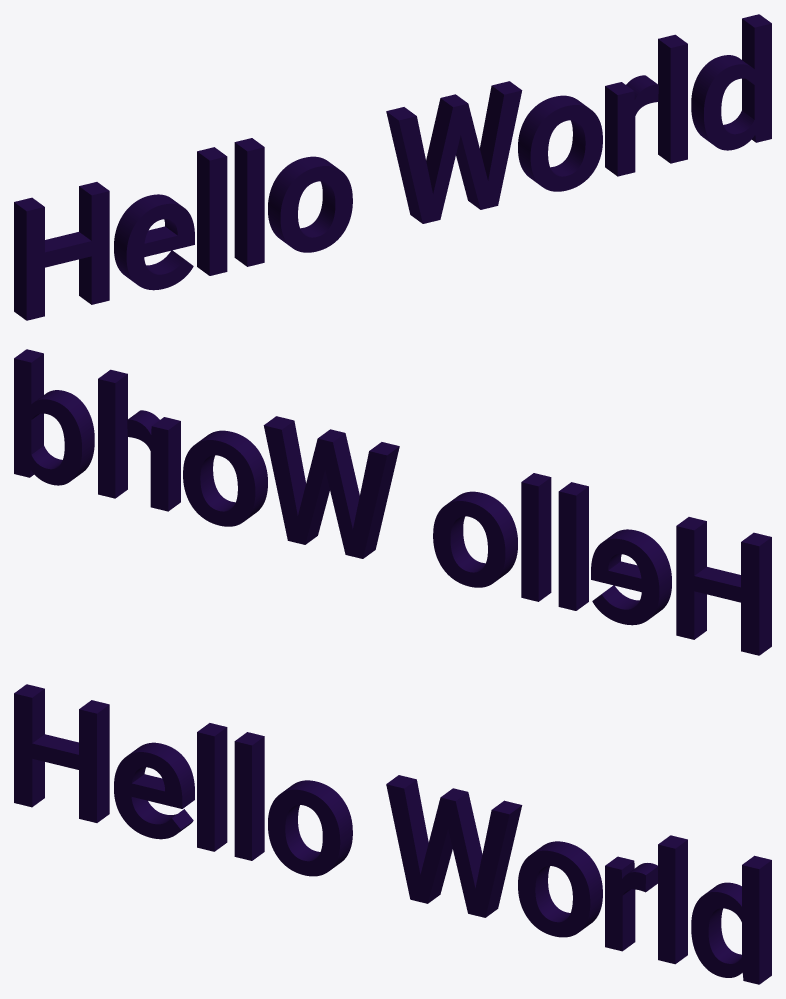
The model's file is hello_world.dae.
3 renders of one model, top to bottom at view 1: azimuth 30°, elevation 25°; view 2: azimuth 150°, elevation 25°; view 3: azimuth 330°, elevation 25°, orthographic.
Visible parts, largest first — view 1: Text; view 2: Text; view 3: Text.
Part boxes in pixels (x1=…): Text: x1=14, y1=14, x2=771, y2=320; Text: x1=14, y1=349, x2=771, y2=655; Text: x1=14, y1=684, x2=771, y2=984.
Bounding box in the file's own units: 3.81 × 0.5725 × 0.1123.
